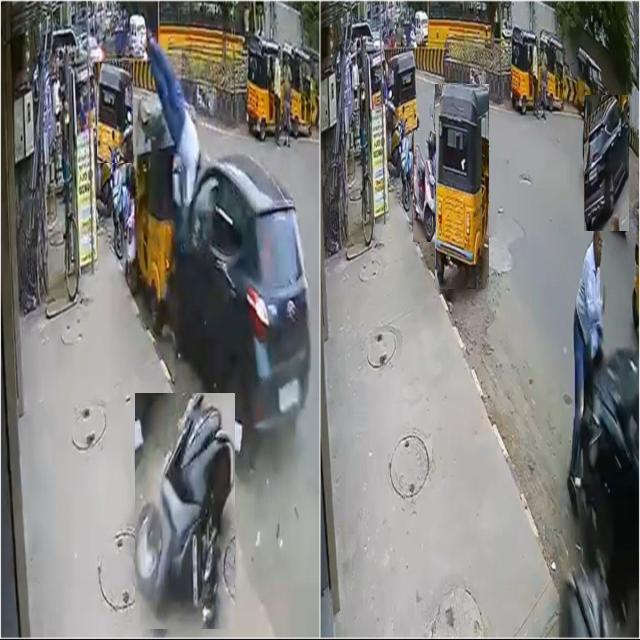accident: (135, 393, 235, 629)
autorickshaw: (435, 85, 489, 289), (97, 62, 132, 163), (389, 51, 419, 133), (511, 27, 538, 113)
car: (175, 156, 310, 429), (584, 95, 629, 231)
motorcycle: (413, 131, 435, 242)
